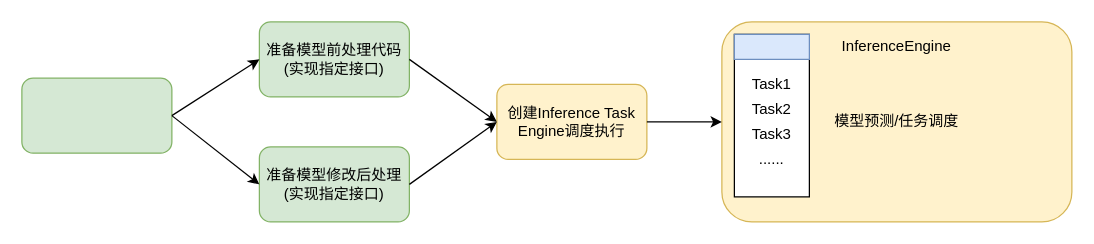
Some shapes in this 1094 by 244 pixel diagram are drawn without their labels. The shapes that lost their labels are listed below. From the top down, each one's centre as x and y in pixels, then its label:
pixel 771 46: TaskQueue
pixel 96 115: 配置模型参数
